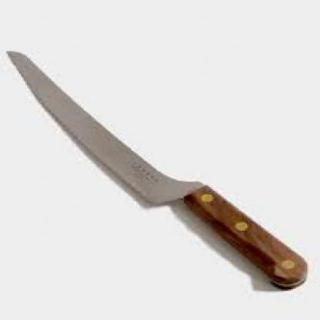knife: (0, 8, 184, 249)
